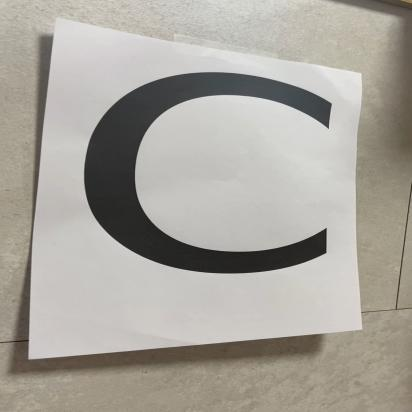seat: (67, 22, 363, 333)
